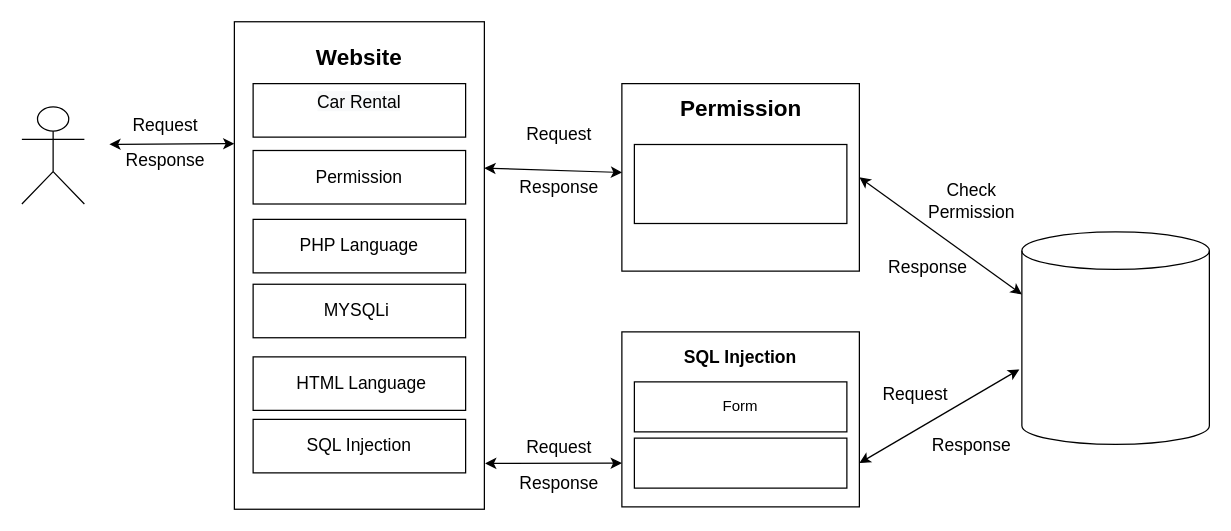
The diagram is 1231 pixels wide and 531 high, and some of its shapes have lost their labels. The centre of each missing label's shape, as x and y in pixels:
"Database" goes at point 1115,337.
"Role in table person" goes at point 740,183.
"URL" goes at point 740,462.
"User" goes at point 52,155.
